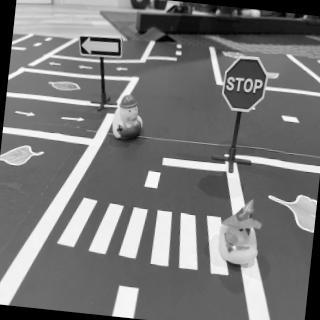duck_regular: (216, 200, 263, 270)
duck_specialty: (111, 95, 146, 143)
road_crosswalk: (52, 193, 240, 280)
road_oneway: (60, 112, 89, 128), (14, 105, 40, 121), (76, 63, 96, 75), (47, 58, 65, 69), (115, 64, 131, 76)
sign_oneway_left: (77, 34, 125, 63)
sign_stop: (219, 55, 271, 117)
